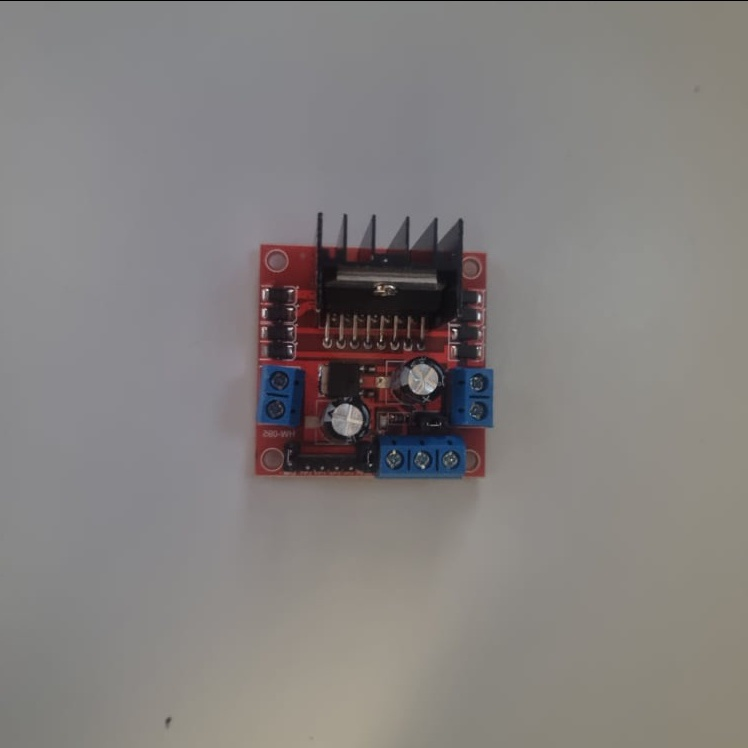MOTOR: (257, 210, 494, 483)
